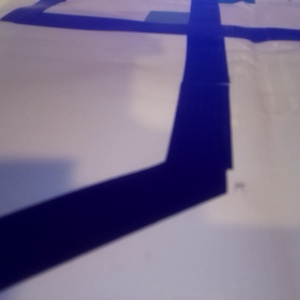bottom_right: (98, 129, 251, 223), (27, 30, 111, 60)
top_left: (207, 54, 300, 110)
